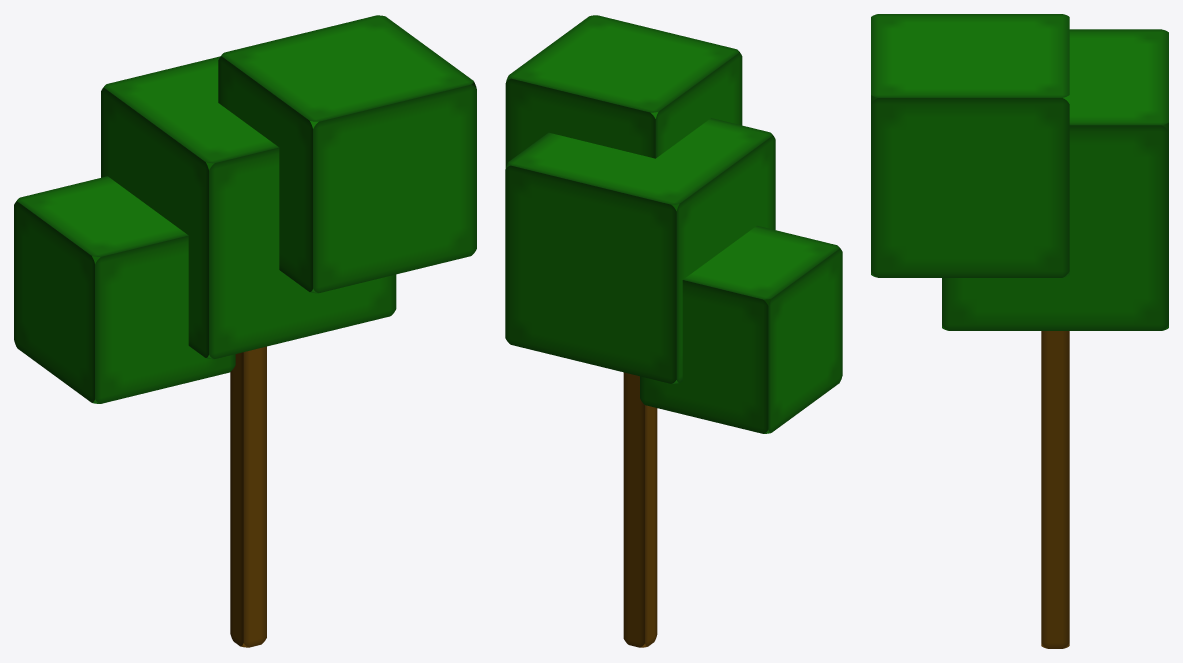
File: tree3.fbx
3 views of the same model, side by side, from view 1: azimuth 30°, elevation 25°; view 2: azimuth 150°, elevation 25°; view 3: azimuth 270°, elevation 25° (orthographic). The views are drawn at different scales.
Parts seen in each view (by area): view 1: cuboid_2, cuboid_1, cuboid_3, cuboid; view 2: cuboid_1, cuboid_3, cuboid_2, cuboid; view 3: cuboid_2, cuboid_1, cuboid.
Part boxes in pixels (x1,y1,x2,y2): cuboid_2: (218,15,476,293); cuboid_1: (101,56,396,359); cuboid_3: (14,176,235,403); cuboid: (230,346,266,647); cuboid_1: (505,111,775,383); cuboid_3: (640,225,842,433); cuboid_2: (505,15,742,210); cuboid: (623,372,657,647); cuboid_2: (871,14,1069,277); cuboid_1: (942,29,1168,330); cuboid: (1041,331,1069,648).
Size of the model in its own units: 175 by 300 by 131.
1 material, 1 textured.
